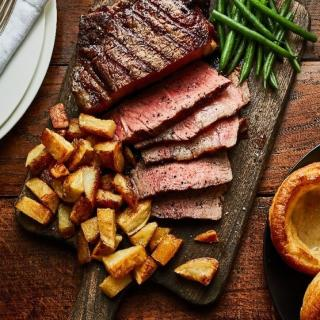carbs: (16, 106, 120, 255), (119, 176, 140, 290), (141, 202, 156, 282), (178, 260, 218, 284), (156, 224, 178, 267), (102, 255, 120, 297), (197, 229, 219, 245)
meat: (75, 0, 212, 105), (120, 104, 232, 177), (142, 176, 232, 202), (212, 71, 249, 105), (158, 202, 224, 219)
steak: (19, 0, 316, 320)
veg: (217, 0, 316, 83)
